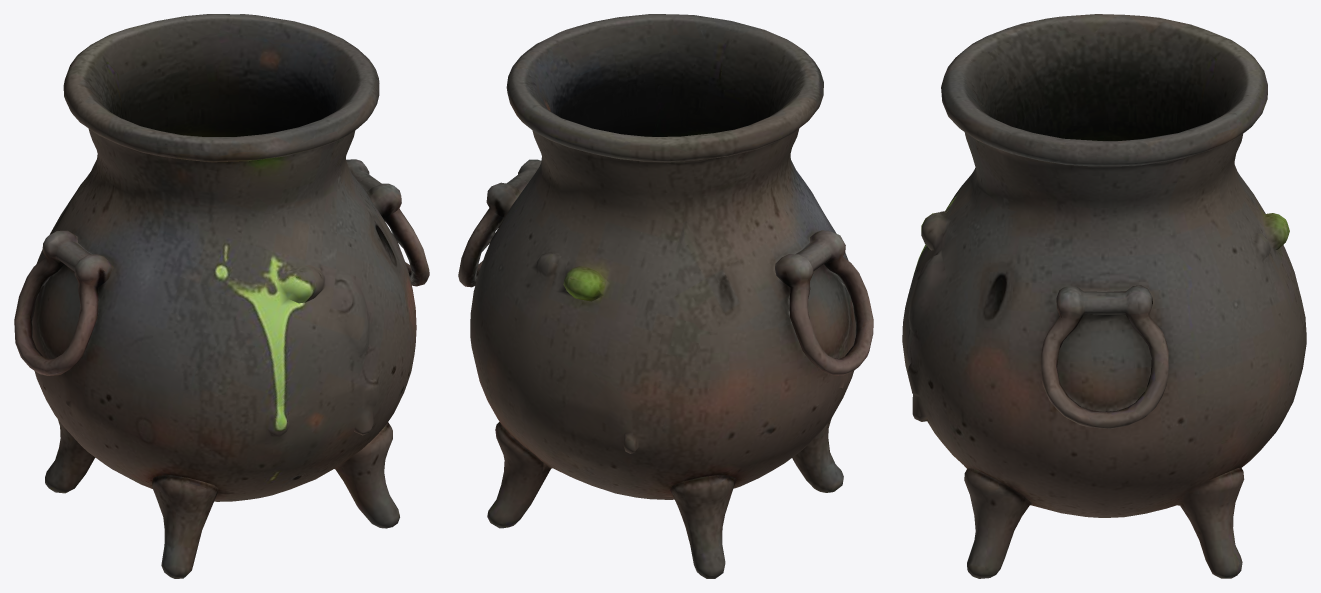
The model's file is hg-cauldron.glb.
3 renders of one model, left to right at view 1: azimuth 30°, elevation 25°; view 2: azimuth 150°, elevation 25°; view 3: azimuth 270°, elevation 25°, orthographic. The views are drawn at different scales.
Visible parts, largest first — view 1: hg-cauldron; view 2: hg-cauldron; view 3: hg-cauldron.
Part boxes in pixels (x1,y1,x2,y2): hg-cauldron: (14, 14, 429, 578); hg-cauldron: (458, 14, 873, 578); hg-cauldron: (902, 14, 1306, 578).
Size of the model in its own units: 1.33 by 1.43 by 1.17.
1 material, 1 textured.
